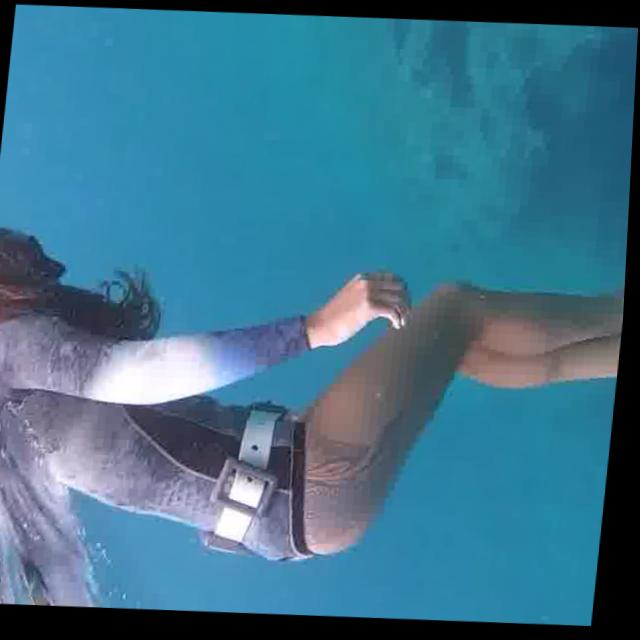human: (0, 202, 631, 599)
